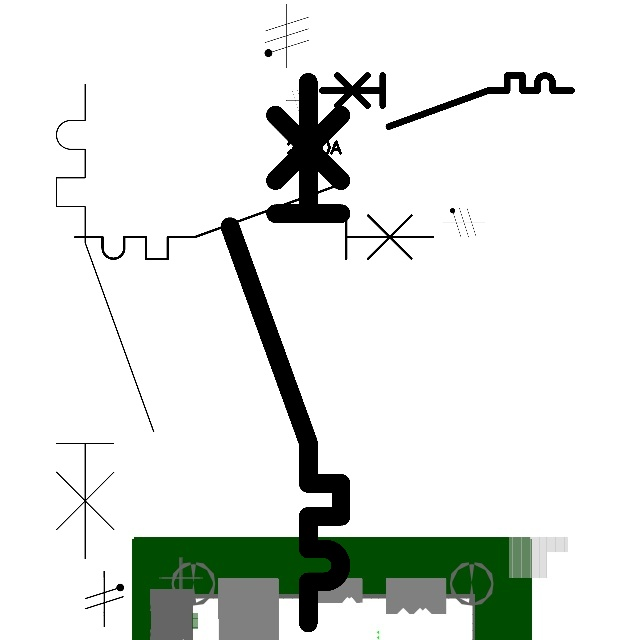interruptor_termomagnetico: (216, 68, 355, 637), (44, 72, 166, 570), (66, 176, 443, 268), (315, 69, 577, 133)
